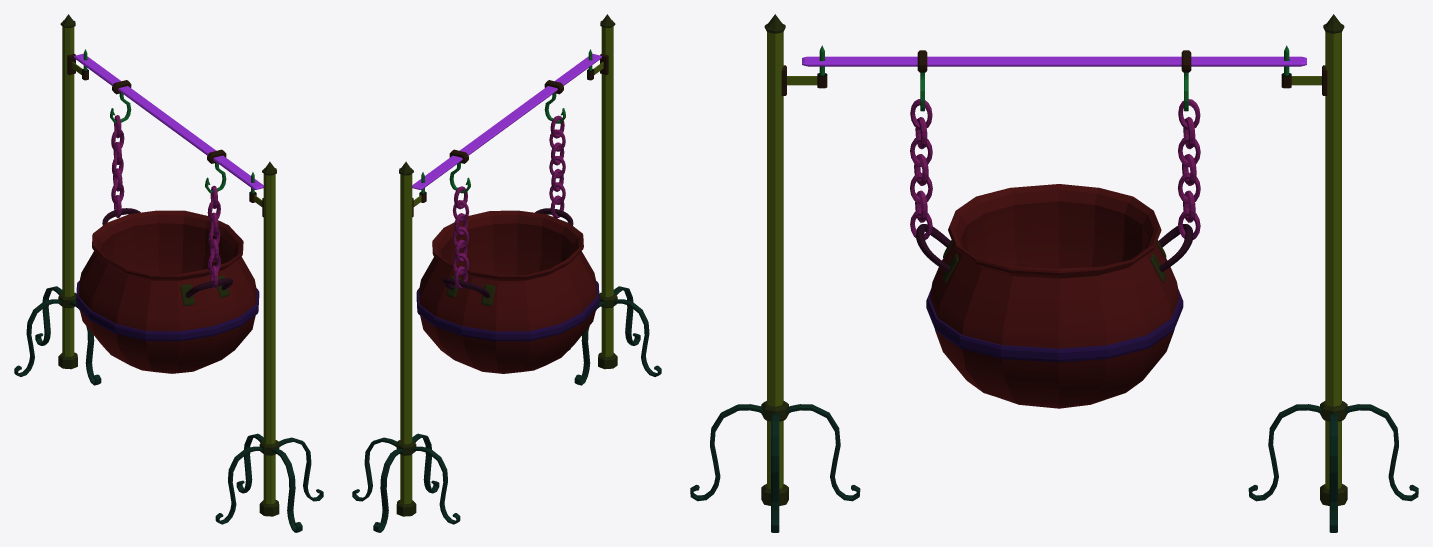
Rendered from MESH_CookingCauldron.fbx.
3 renders of one model, left to right at view 1: azimuth 30°, elevation 25°; view 2: azimuth 150°, elevation 25°; view 3: azimuth 270°, elevation 25°, orthographic. The views are drawn at different scales.
Visible parts, largest first — view 1: MESH_CookingCauldron; view 2: MESH_CookingCauldron; view 3: MESH_CookingCauldron.
Part boxes in pixels (x1=…): MESH_CookingCauldron: x1=14, y1=14, x2=323, y2=532; MESH_CookingCauldron: x1=352, y1=14, x2=661, y2=532; MESH_CookingCauldron: x1=690, y1=14, x2=1418, y2=532.
Size of the model in its own units: 0.9106 by 1.98 by 2.68.
